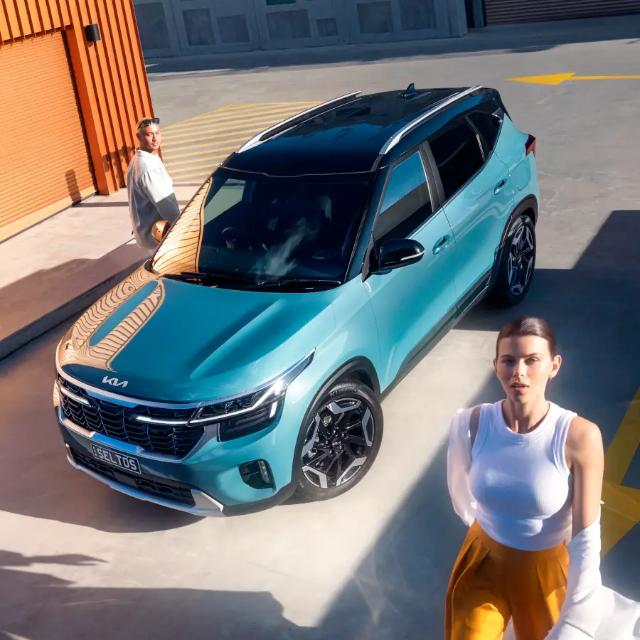kia: (51, 82, 541, 518)
